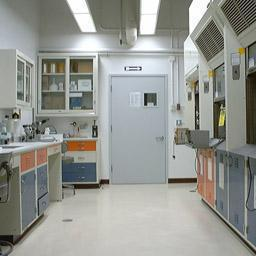Puerta: (110, 74, 166, 182)
